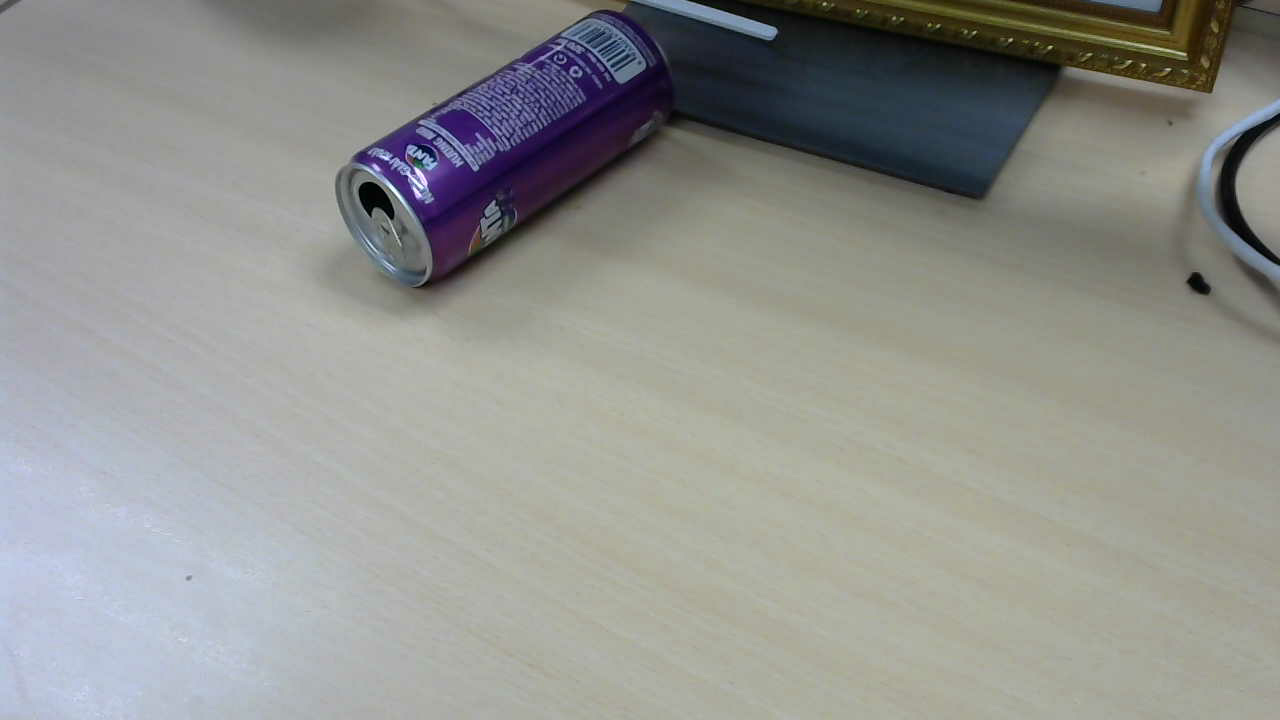Fanta: (340, 15, 677, 294)
